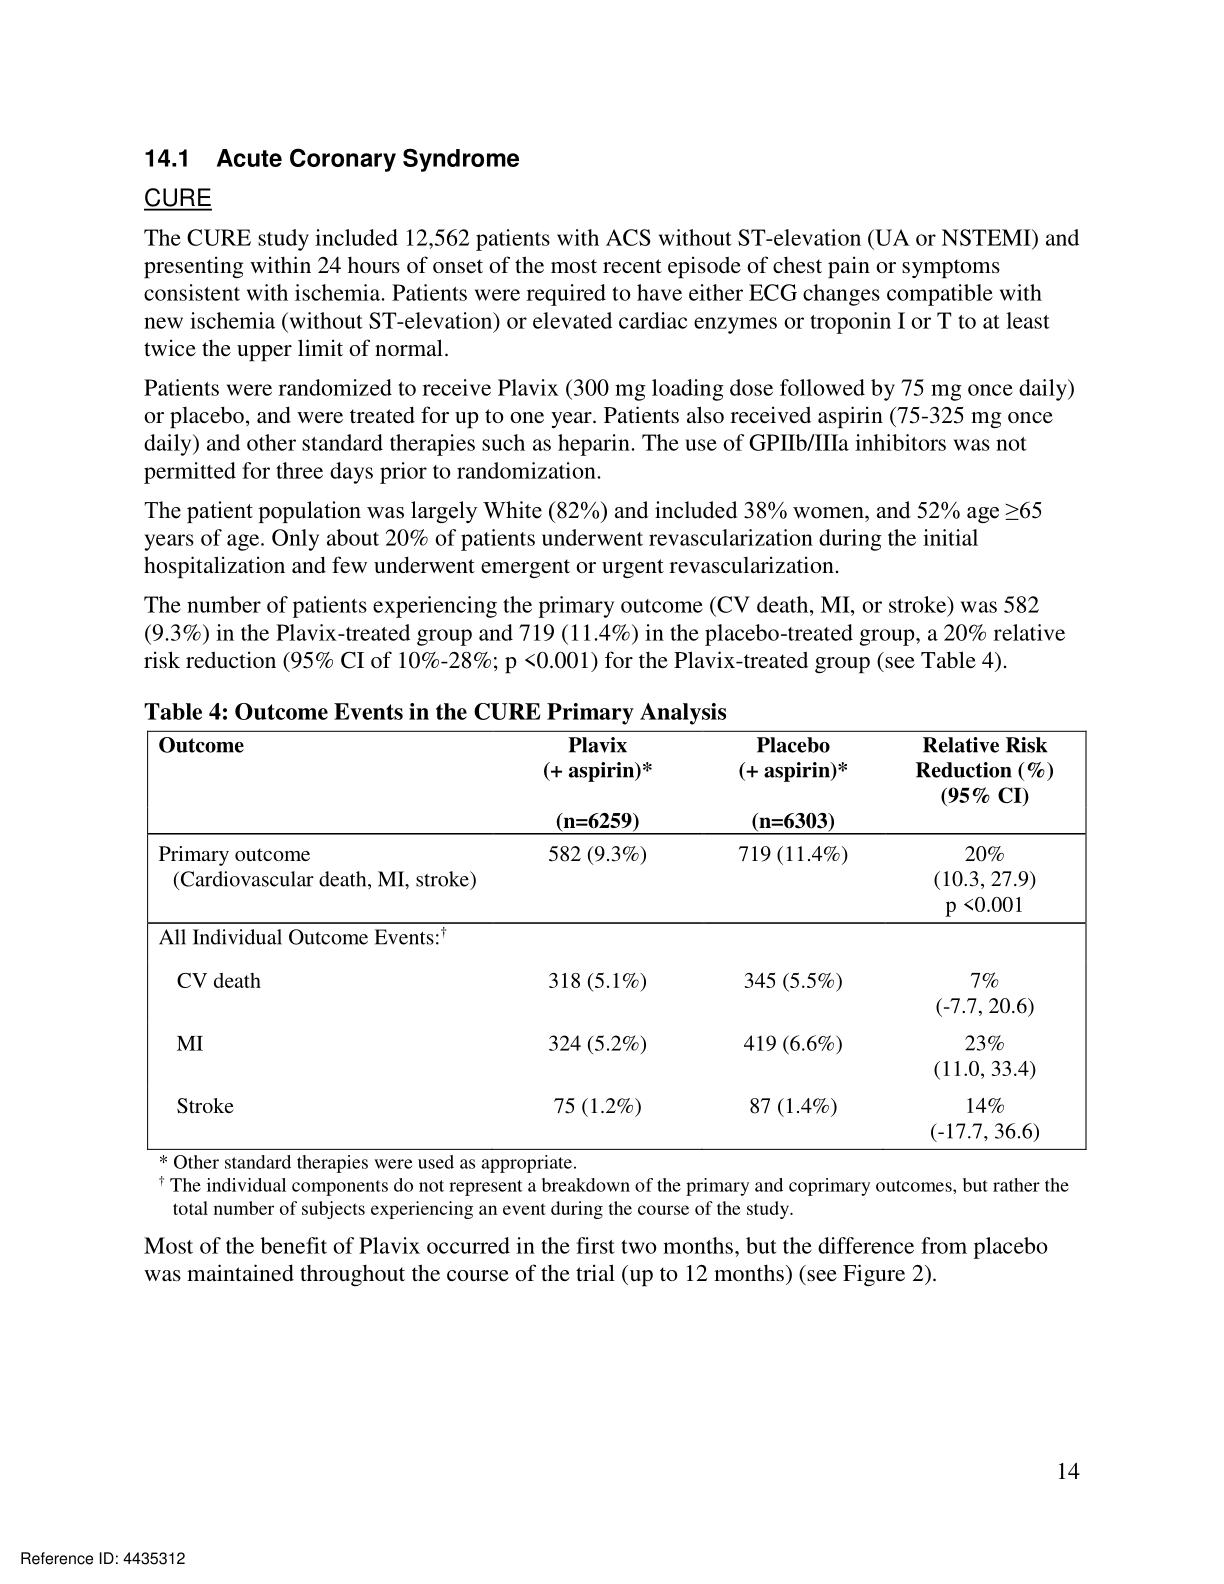partial_lined: (145, 726, 1092, 1155)
